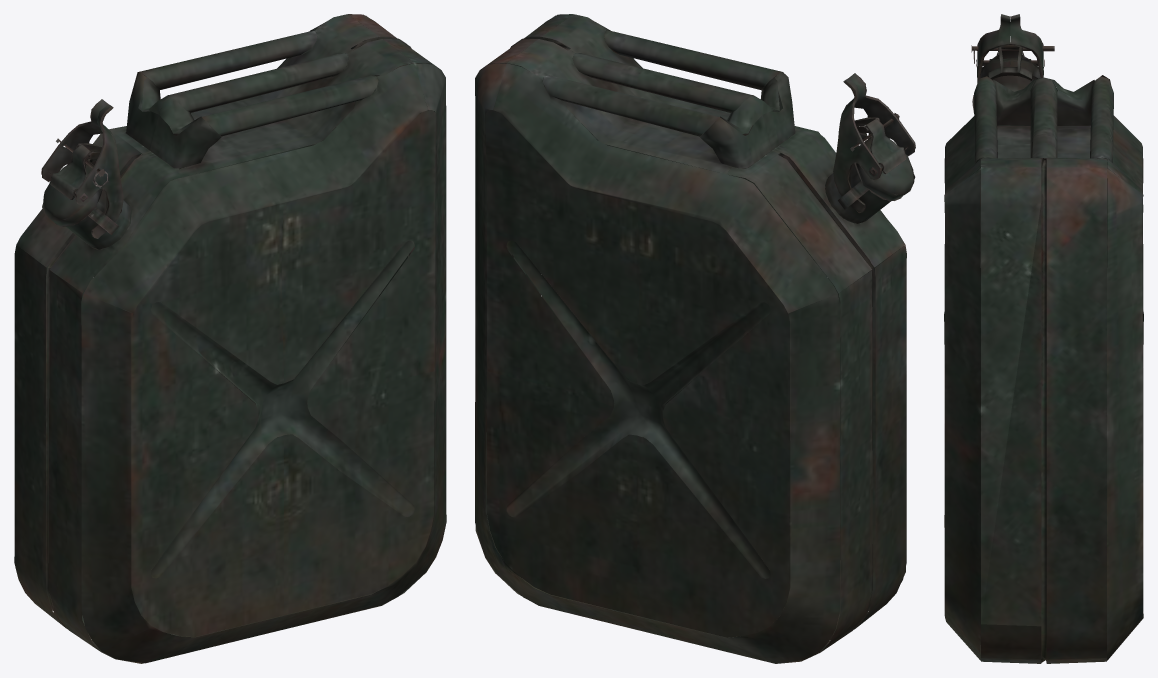
The model's file is metal_jerrycan_green.glb.
3 views of the same model, side by side, from view 1: azimuth 30°, elevation 25°; view 2: azimuth 150°, elevation 25°; view 3: azimuth 270°, elevation 25° (orthographic). The views are drawn at different scales.
Parts seen in each view (by area): view 1: metal_jerrycan_green; view 2: metal_jerrycan_green; view 3: metal_jerrycan_green.
Boxes of the visible parts, x1,y1,x2,y2 form: metal_jerrycan_green: (14,14,446,663); metal_jerrycan_green: (475,14,915,663); metal_jerrycan_green: (944,14,1143,663).
Bounding box in the file's own units: 0.3605 × 0.5 × 0.1724.
1 material, 1 textured.
